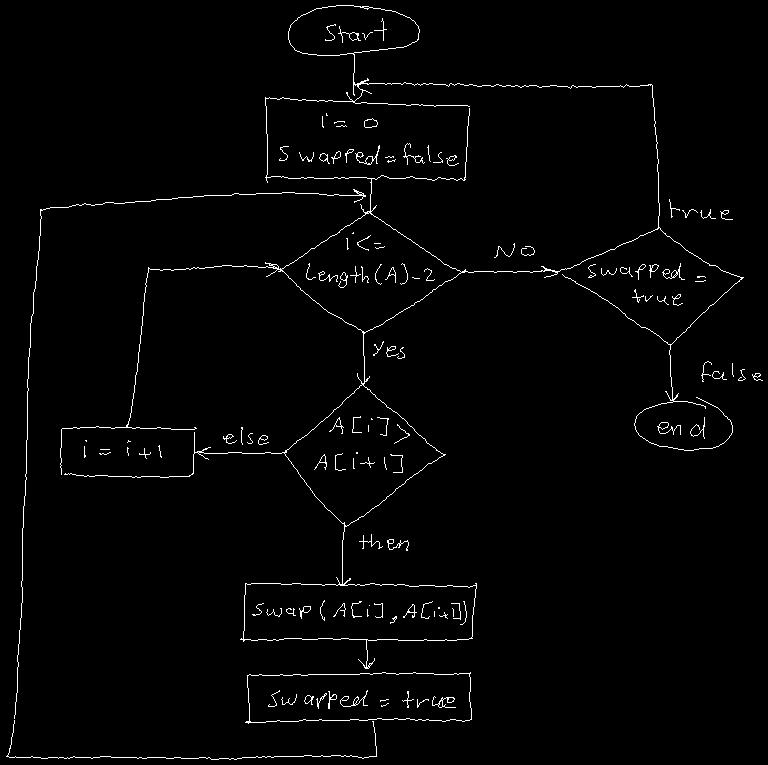arrow: (6, 189, 376, 759), (353, 78, 659, 229), (126, 262, 282, 426), (195, 447, 286, 459), (462, 266, 557, 277), (336, 522, 350, 585), (346, 54, 362, 101), (665, 344, 678, 400), (357, 331, 369, 384), (360, 179, 376, 213), (358, 640, 374, 668)
decision: (284, 382, 445, 526), (278, 211, 462, 333), (556, 227, 743, 345)
process: (265, 97, 469, 182), (240, 583, 476, 641), (245, 672, 471, 723), (60, 426, 196, 477)
terminator: (288, 5, 419, 55), (634, 397, 732, 450)
text: (279, 113, 458, 165), (306, 232, 434, 287), (314, 416, 409, 472), (252, 600, 466, 624), (588, 263, 705, 305), (268, 690, 455, 708), (325, 18, 386, 42), (84, 440, 161, 458), (669, 199, 732, 219), (701, 361, 762, 381), (657, 417, 704, 438), (359, 534, 408, 550), (223, 427, 268, 444), (494, 243, 534, 257), (373, 341, 404, 358)
